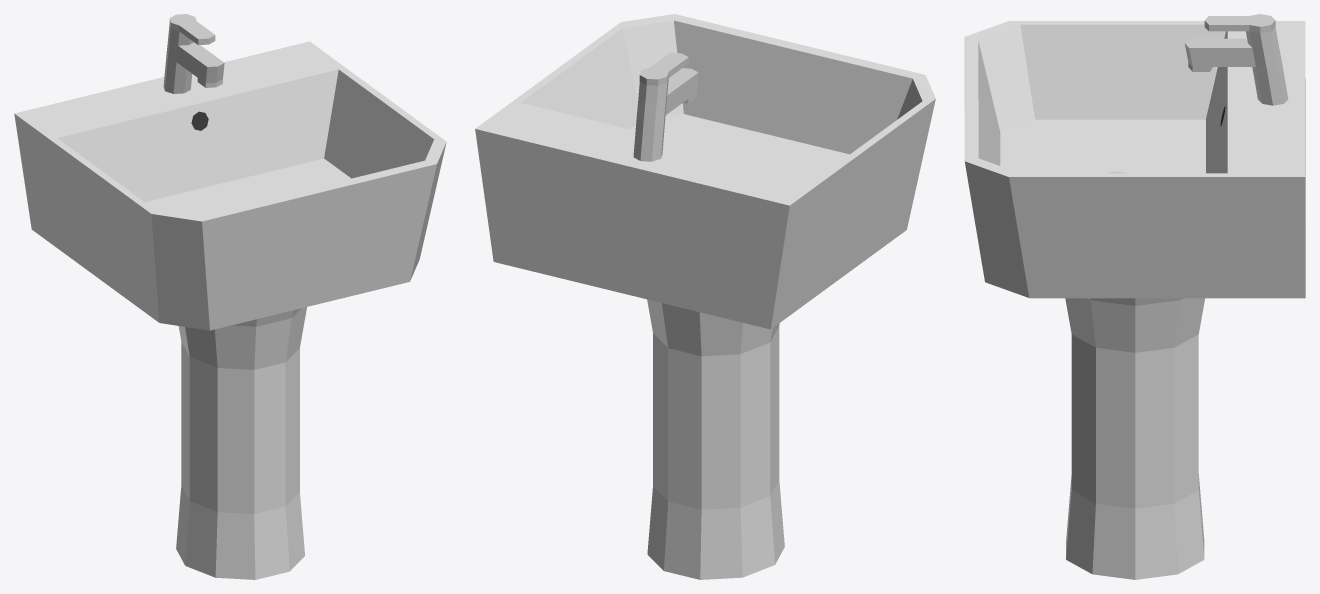
File: washstand_0406 1.fbx
3 renders of one model, left to right at view 1: azimuth 30°, elevation 25°; view 2: azimuth 150°, elevation 25°; view 3: azimuth 270°, elevation 25°, orthographic. The views are drawn at different scales.
Visible parts, largest first — view 1: Cylinder001; view 2: Cylinder001; view 3: Cylinder001.
Boxes of the visible parts, x1,y1,x2,y2 form: Cylinder001: [14, 14, 446, 579]; Cylinder001: [475, 14, 935, 579]; Cylinder001: [964, 14, 1305, 579].
Size of the model in its own units: 91.1 by 144 by 84.29.
Materials: 1 (1 with a texture image).
